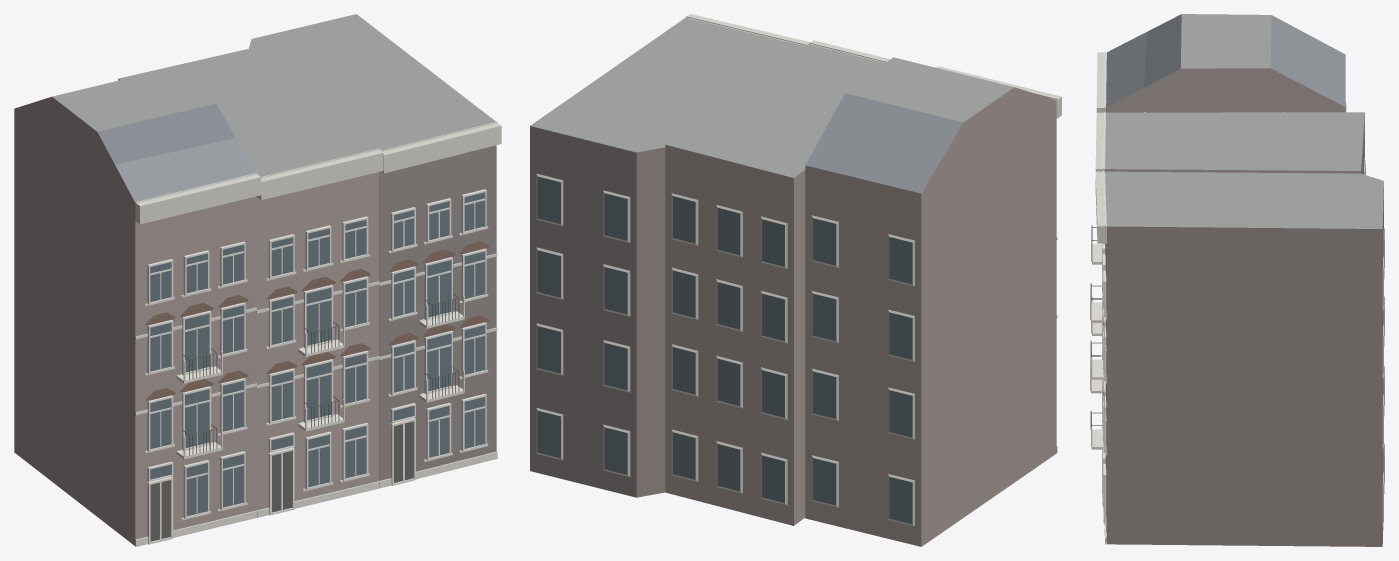
File: chunk-face-helmers-51-73-r1.glb
3 renders of one model, left to right at view 1: azimuth 30°, elevation 25°; view 2: azimuth 150°, elevation 25°; view 3: azimuth 270°, elevation 25°, orthographic. The views are drawn at different scales.
Parts seen in each view (by area): view 1: face-helmers-51-73-r1; view 2: face-helmers-51-73-r1; view 3: face-helmers-51-73-r1.
Part boxes in pixels (x1,y1,x2,y2): face-helmers-51-73-r1: (14,14,501,546); face-helmers-51-73-r1: (530,14,1061,546); face-helmers-51-73-r1: (1090,14,1384,546).
Size of the model in its own units: 16.96 by 16.99 by 12.46.
